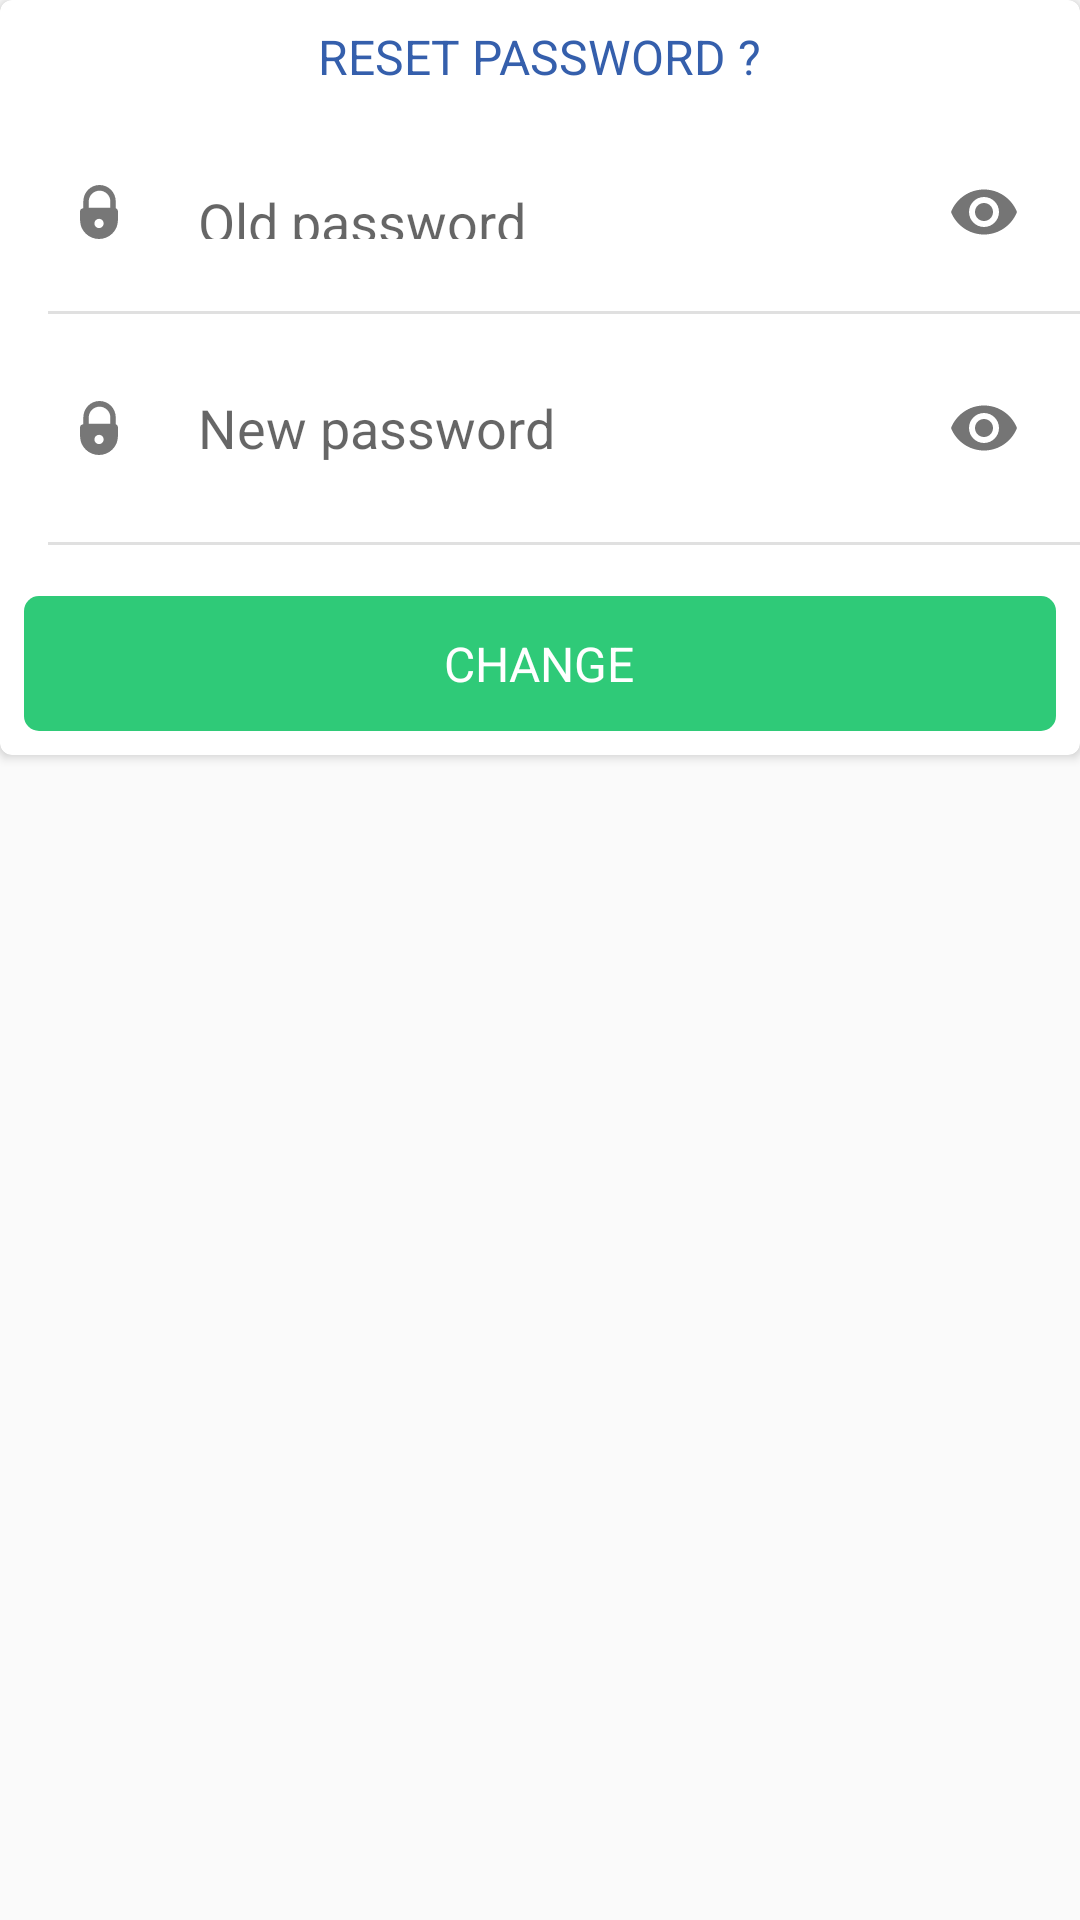

Named icons in this screenshot (1080x1920) and their centers, point (x, y):
auth password: point (99, 212), point (99, 428)
